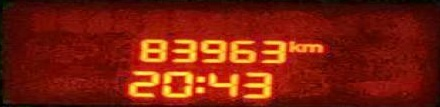0: (161, 69, 191, 96)
2: (128, 68, 158, 97)
3: (240, 71, 273, 100), (169, 37, 194, 62), (261, 39, 283, 64)
4: (208, 71, 238, 97)
6: (229, 38, 256, 63)
8: (138, 37, 166, 62)
9: (199, 38, 226, 63)
X: (300, 42, 323, 53), (193, 74, 205, 93), (287, 38, 300, 53)
